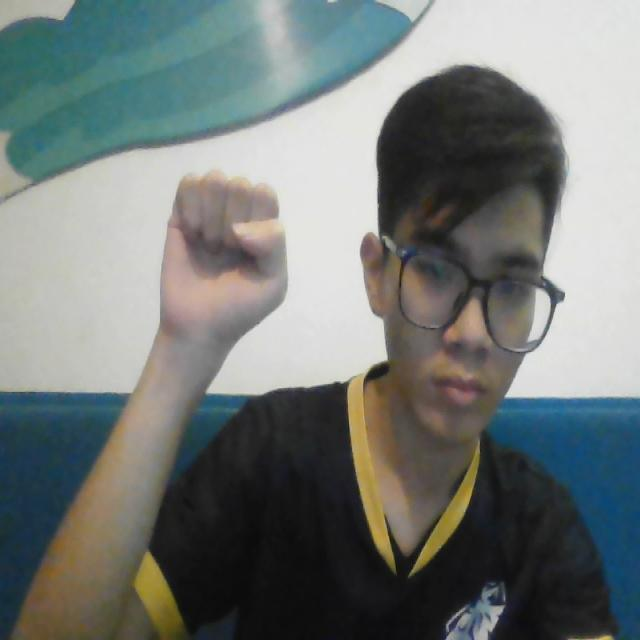E: (156, 160, 301, 350)
